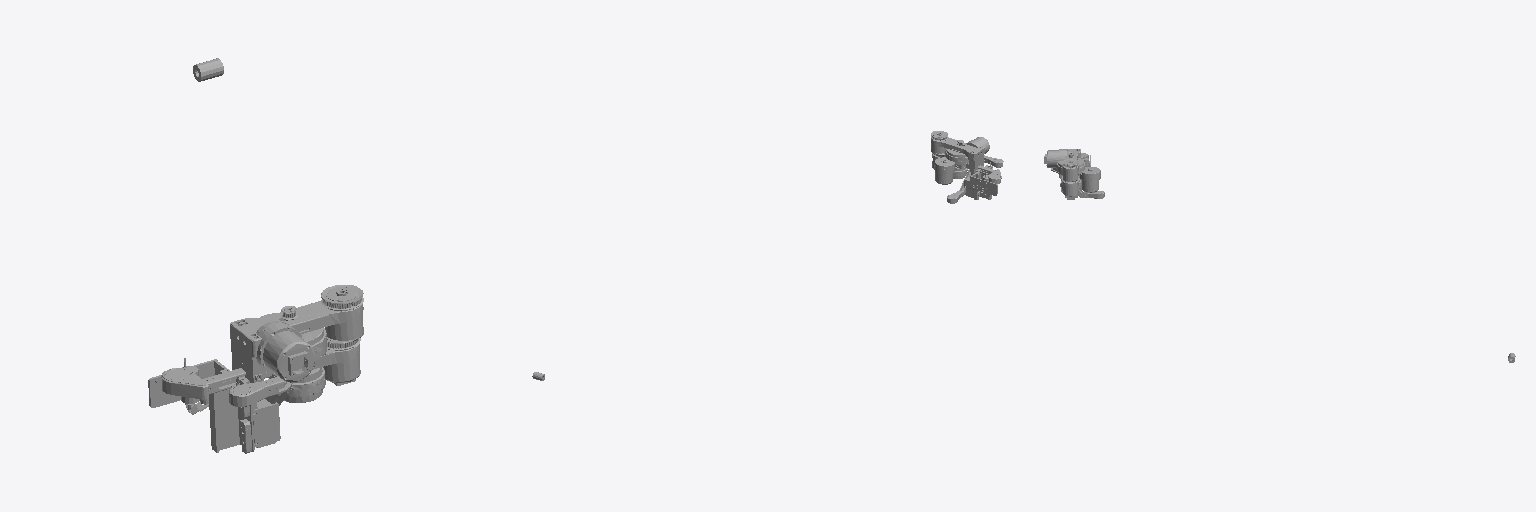
robot.urdf — asm_arm:
<?xml version="1.0" ?>
<robot name="asm_arm">
<mujoco>
  <compiler balanceinertia="true" discardvisual="false" fusestatic="true" meshdir="../meshes/" strippath="true"/>
</mujoco>

<material name="silver">
  <color rgba="0.700 0.700 0.700 1.000"/>
</material>

<link name="link_00v1_1">
  <inertial>
    <origin xyz="0.1845382022698047 2.0751395377606388 -1.4808335489089286" rpy="0 0 0"/>
    <mass value="96.86051357355375"/>
    <inertia ixx="25.951706" iyy="24.423694" izz="6.42594" ixy="0.376067" iyz="1.070004" ixz="0.696645"/>
  </inertial>
  <visual>
    <origin xyz="0 0 0" rpy="0 0 0"/>
    <geometry>
      <mesh filename="package://dyros_avatar_haptic_description/meshes/link_00v1_1.stl" scale="0.001 0.001 0.001"/>
    </geometry>
    <material name="silver"/>
  </visual>
  <collision>
    <origin xyz="0 0 0" rpy="0 0 0"/>
    <geometry>
      <mesh filename="package://dyros_avatar_haptic_description/meshes/link_00v1_1.stl" scale="0.001 0.001 0.001"/>
    </geometry>
  </collision>
</link>

<link name="link_01v1_1">
  <inertial>
    <origin xyz="0.02017130754741639 -0.033922199520331375 -0.34622742051986954" rpy="0 0 0"/>
    <mass value="27.53225728894062"/>
    <inertia ixx="6.664504" iyy="6.896737" izz="0.298637" ixy="0.063497" iyz="0.216866" ixz="-0.589121"/>
  </inertial>
  <visual>
    <origin xyz="-0.17541724521113924 -2.1096499999999963 0.9566081302501889" rpy="0 0 0"/>
    <geometry>
      <mesh filename="package://dyros_avatar_haptic_description/meshes/link_01v1_1_3dless_com_simplified.stl" scale="0.001 0.001 0.001"/>
    </geometry>
    <material name="silver"/>
  </visual>
  <collision>
    <origin xyz="-0.17541724521113924 -2.1096499999999963 0.9566081302501889" rpy="0 0 0"/>
    <geometry>
      <mesh filename="package://dyros_avatar_haptic_description/meshes/link_01v1_1_3dless_com_simplified.stl" scale="0.001 0.001 0.001"/>
    </geometry>
  </collision>
</link>

<joint name="Rev2" type="prismatic">
  <origin xyz="0.17541724521113924 2.1096499999999963 -0.9566081302501889" rpy="0 0 0"/>
  <parent link="link_00v1_1"/>
  <child link="link_01v1_1"/>
  <axis xyz="-0.057152542682016264 3.295107242617945e-15 0.9983654575680074"/>
  <limit upper="3.14159" lower="-3.14159" effort="100" velocity="100"/>
</joint>

<link name="link_02v1_1">
  <inertial>
    <origin xyz="0.21928780557183264 -0.04949523513585197 0.0038360967727305573" rpy="0 0 0"/>
    <mass value="5.629376233339256"/>
    <inertia ixx="0.008043" iyy="0.070534" izz="0.070747" ixy="0.007736" iyz="-0.000122" ixz="-0.000917"/>
  </inertial>
  <visual>
    <origin xyz="-0.439915116067151 -2.037629321204983 0.7936250015572428" rpy="0 0 0"/>
    <geometry>
      <mesh filename="package://dyros_avatar_haptic_description/meshes/link_02v1_1_3dless_com_simplified.stl" scale="0.001 0.001 0.001"/>
    </geometry>
    <material name="silver"/>
  </visual>
  <collision>
    <origin xyz="-0.439915116067151 -2.037629321204983 0.7936250015572428" rpy="0 0 0"/>
    <geometry>
      <mesh filename="package://dyros_avatar_haptic_description/meshes/link_02v1_1_3dless_com_simplified.stl" scale="0.001 0.001 0.001"/>
    </geometry>
  </collision>
</link>

<joint name="Rev3" type="revolute">
  <origin xyz="0.26449787085601173 -0.07202067879501328 0.16298312869294607" rpy="0 0 0"/>
  <parent link="link_01v1_1"/>
  <child link="link_02v1_1"/>
  <axis xyz="-0.05715254268201613 2.6601984504104337e-15 0.998365457568007"/>
  <limit upper="3.14159" lower="-3.14159" effort="100" velocity="100"/>
</joint>

<link name="link_03v1_1">
  <inertial>
    <origin xyz="0.159844616032791 0.13962714543404453 0.007734170782658811" rpy="0 0 0"/>
    <mass value="3.644439794105895"/>
    <inertia ixx="0.022811" iyy="0.016857" izz="0.034455" ixy="-0.013858" iyz="0.000531" ixz="0.000218"/>
  </inertial>
  <visual>
    <origin xyz="-0.7657565157519015 -1.9805741721025891 0.7316009561201204" rpy="0 0 0"/>
    <geometry>
      <mesh filename="package://dyros_avatar_haptic_description/meshes/link_03v1_1_3dless_com_simplified.stl" scale="0.001 0.001 0.001"/>
    </geometry>
    <material name="silver"/>
  </visual>
  <collision>
    <origin xyz="-0.7657565157519015 -1.9805741721025891 0.7316009561201204" rpy="0 0 0"/>
    <geometry>
      <mesh filename="package://dyros_avatar_haptic_description/meshes/link_03v1_1_3dless_com_simplified.stl" scale="0.001 0.001 0.001"/>
    </geometry>
  </collision>
</link>

<joint name="Rev4" type="revolute">
  <origin xyz="0.3258413996847505 -0.05705514910239384 0.062024045437122366" rpy="0 0 0"/>
  <parent link="link_02v1_1"/>
  <child link="link_03v1_1"/>
  <axis xyz="-0.057152542682016895 -7.615436059538183e-15 0.9983654575680069"/>
  <limit upper="3.14159" lower="-3.14159" effort="100" velocity="100"/>
</joint>

<link name="link_04v1_1">
  <inertial>
    <origin xyz="-0.012299618227410769 -0.16569595452860342 0.15023729353311643" rpy="0 0 0"/>
    <mass value="3.6382226777492375"/>
    <inertia ixx="0.036908" iyy="0.022603" izz="0.018135" ixy="-0.001181" iyz="0.014992" ixz="0.001416"/>
  </inertial>
  <visual>
    <origin xyz="-0.9512150958496066 -2.161929494385054 0.6803177020505143" rpy="0 0 0"/>
    <geometry>
      <mesh filename="package://dyros_avatar_haptic_description/meshes/link_04v1_1_3dless_com_simplified.stl" scale="0.001 0.001 0.001"/>
    </geometry>
    <material name="silver"/>
  </visual>
  <collision>
    <origin xyz="-0.9512150958496066 -2.161929494385054 0.6803177020505143" rpy="0 0 0"/>
    <geometry>
      <mesh filename="package://dyros_avatar_haptic_description/meshes/link_04v1_1_3dless_com_simplified.stl" scale="0.001 0.001 0.001"/>
    </geometry>
  </collision>
</link>

<joint name="Rev6" type="revolute">
  <origin xyz="0.1854585800977051 0.18135532228246487 0.0512832540696061" rpy="0 0 0"/>
  <parent link="link_03v1_1"/>
  <child link="link_04v1_1"/>
  <axis xyz="-0.05715254268201687 3.5292066086900628e-15 0.9983654575680083"/>
  <limit upper="3.14159" lower="-3.14159" effort="100" velocity="100"/>
</joint>

<link name="link_05v1_1">
  <inertial>
    <origin xyz="0.20711085640929228 0.0838407641964376 0.01184865467001689" rpy="0 0 0"/>
    <mass value="3.0923754910530032"/>
    <inertia ixx="0.010444" iyy="0.028104" izz="0.036473" ixy="-0.012368" iyz="-0.000708" ixz="-0.001495"/>
  </inertial>
  <visual>
    <origin xyz="-0.9368288103802935 -2.0110669364051432 0.48782527780957524" rpy="0 0 0"/>
    <geometry>
      <mesh filename="package://dyros_avatar_haptic_description/meshes/link_05v1_1_3dless_com_simplified.stl" scale="0.001 0.001 0.001"/>
    </geometry>
    <material name="silver"/>
  </visual>
  <collision>
    <origin xyz="-0.9368288103802935 -2.0110669364051432 0.48782527780957524" rpy="0 0 0"/>
    <geometry>
      <mesh filename="package://dyros_avatar_haptic_description/meshes/link_05v1_1_3dless_com_simplified.stl" scale="0.001 0.001 0.001"/>
    </geometry>
  </collision>
</link>

<joint name="Rev7" type="revolute">
  <origin xyz="-0.014386285469313087 -0.15086255797991077 0.1924924242409391" rpy="0 0 0"/>
  <parent link="link_04v1_1"/>
  <child link="link_05v1_1"/>
  <axis xyz="0.022238865021093172 0.999751875281055 0.0012730885996499568"/>
  <limit upper="3.14159" lower="-3.14159" effort="100" velocity="100"/>
</joint>

<link name="link_06v1_1">
  <inertial>
    <origin xyz="-0.024952943460532007 0.0005568818705246059 -0.0014284590430880817" rpy="0 0 0"/>
    <mass value="0.3119186814784543"/>
    <inertia ixx="5.6e-05" iyy="9.3e-05" izz="9.3e-05" ixy="1e-06" iyz="0.0" ixz="-2e-06"/>
  </inertial>
  <visual>
    <origin xyz="-1.1363932719129597 -2.134144843820074 0.47640098791743135" rpy="0 0 0"/>
    <geometry>
      <mesh filename="package://dyros_avatar_haptic_description/meshes/link_06v1_1.stl" scale="0.001 0.001 0.001"/>
    </geometry>
    <material name="silver"/>
  </visual>
  <collision>
    <origin xyz="-1.1363932719129597 -2.134144843820074 0.47640098791743135" rpy="0 0 0"/>
    <geometry>
      <mesh filename="package://dyros_avatar_haptic_description/meshes/link_06v1_1.stl" scale="0.001 0.001 0.001"/>
    </geometry>
  </collision>
</link>

<joint name="Rev8" type="revolute">
  <origin xyz="0.19956446153266616 0.12307790741493063 0.01142428989214389" rpy="0 0 0"/>
  <parent link="link_05v1_1"/>
  <child link="link_06v1_1"/>
  <axis xyz="0.9981177384194481 -0.022275274903106906 0.057138361723427296"/>
  <limit upper="3.14159" lower="-3.14159" effort="100" velocity="100"/>
</joint>

</robot>

--- Facts derived from the render (not from the file) ---
Views: 3 orthographic renders of the robot side by side, from view 1: azimuth 30°, elevation 25°; view 2: azimuth 150°, elevation 25°; view 3: azimuth 270°, elevation 25°.
Model asm_arm with 7 links and 6 joints (5 revolute, 1 prismatic), rooted at link_00v1_1, posed every joint at zero.
Visible links, largest first — view 1: link_01v1_1, link_02v1_1, link_04v1_1, link_03v1_1, link_06v1_1; view 2: link_01v1_1, link_03v1_1; view 3: link_01v1_1.
Boxes of the visible links, x1=… form: link_01v1_1: x1=148, y1=285, x2=363, y2=453; link_02v1_1: x1=161, y1=337, x2=360, y2=402; link_04v1_1: x1=256, y1=321, x2=314, y2=405; link_03v1_1: x1=229, y1=313, x2=293, y2=406; link_06v1_1: x1=193, y1=58, x2=223, y2=81; link_01v1_1: x1=931, y1=131, x2=997, y2=199; link_03v1_1: x1=934, y1=155, x2=1003, y2=184; link_01v1_1: x1=1057, y1=149, x2=1090, y2=199.
Size in the robot's own frame: 1.35 by 2.3 by 0.6374 metres.
Meshes: 7 distinct files referenced, 5 mesh visuals loaded (5 binary STL); not drawn: 2 (reference not matched to a file when rendering).